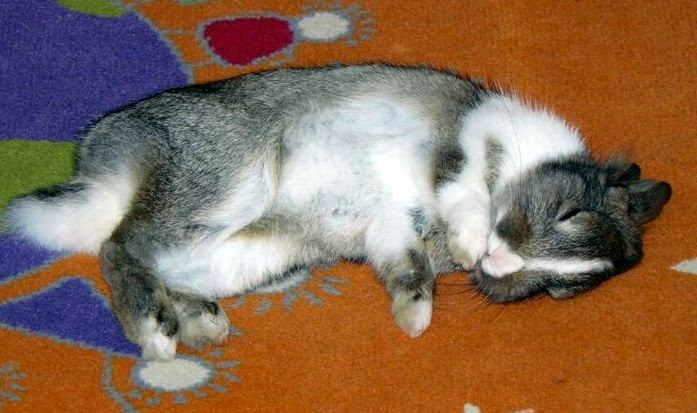bunny: (3, 52, 685, 408)
